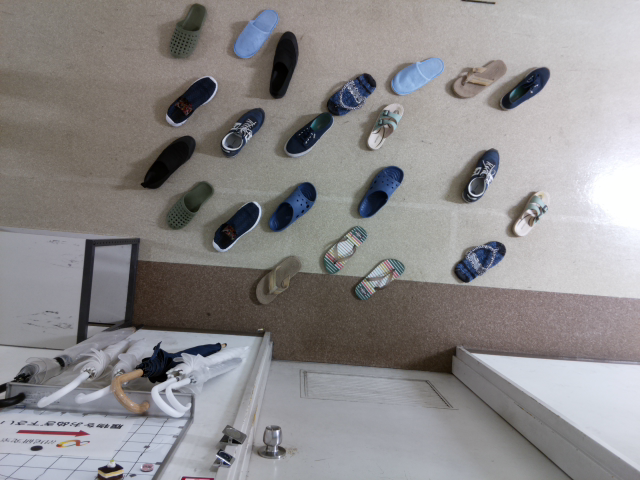Copy of Copy of Copy of Copy of Copy of Copy of Copy of Copy of Copy of Copy of: (1, 325, 125, 414), (107, 337, 226, 419), (41, 334, 143, 413), (150, 344, 249, 419), (85, 334, 157, 411), (355, 161, 408, 220), (217, 103, 268, 160), (445, 56, 509, 101), (251, 252, 302, 308), (164, 1, 211, 61), (229, 3, 280, 58), (263, 27, 301, 100), (385, 53, 444, 99), (497, 63, 551, 113), (279, 110, 334, 158), (325, 70, 378, 117), (364, 99, 408, 154)
Copy of Copy of Copy of Copy of Copy of Copy of Copy of Copy of Copy of shoe: (458, 145, 500, 207)
Copy of Copy of Copy of Copy of Copy of Copy of Copy of Copy of shoe: (506, 188, 551, 239)
Copy of Copy of Copy of Copy of Copy of Copy of Copy of shoe: (451, 237, 511, 283)
Copy of Copy of Copy of Copy of Copy of Copy of shoe: (350, 257, 409, 302)
Copy of Copy of Copy of Copy of Copy of shoe: (317, 222, 367, 278)
Copy of Copy of Copy of Copy of shoe: (263, 179, 317, 236)
Copy of Copy of Copy of shoe: (208, 197, 262, 255)
Copy of Copy of shoe: (160, 180, 215, 230)
Copy of shoe: (140, 133, 198, 191)
shoe: (163, 71, 221, 130)
